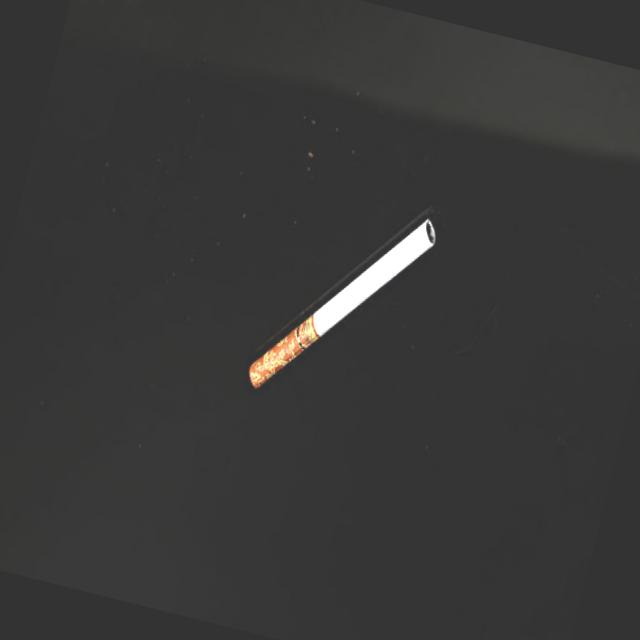cigarette: (242, 180, 440, 428)
